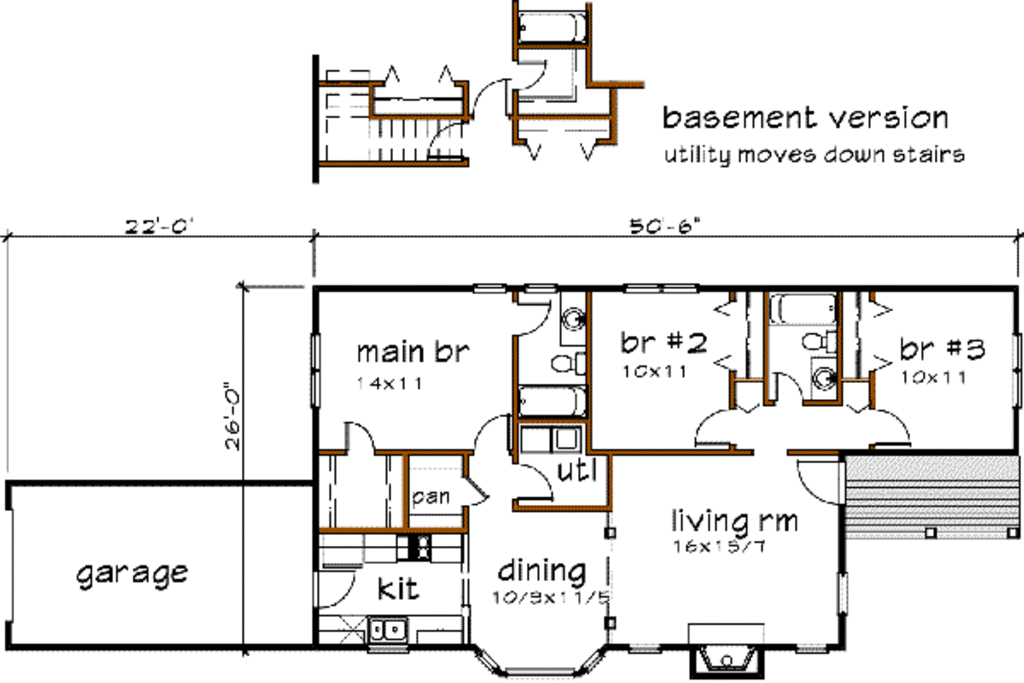door: (791, 449, 856, 513), (859, 396, 916, 450), (305, 561, 359, 616), (688, 398, 741, 451), (462, 77, 516, 126), (464, 407, 518, 456), (416, 115, 473, 161), (761, 359, 811, 410), (500, 294, 550, 339), (511, 458, 560, 502), (506, 53, 550, 96), (333, 419, 385, 454), (460, 473, 491, 511)
large_sink: (798, 327, 843, 363), (550, 347, 596, 381)
small_sink: (557, 286, 591, 341), (807, 354, 838, 404)
tub: (513, 380, 592, 419), (517, 7, 589, 45)
twin_sink: (359, 607, 427, 658)
window: (466, 636, 613, 679), (302, 332, 333, 407), (623, 273, 702, 299), (828, 563, 858, 622), (1007, 327, 1024, 406), (618, 636, 666, 655), (801, 636, 835, 659), (473, 282, 506, 296)
